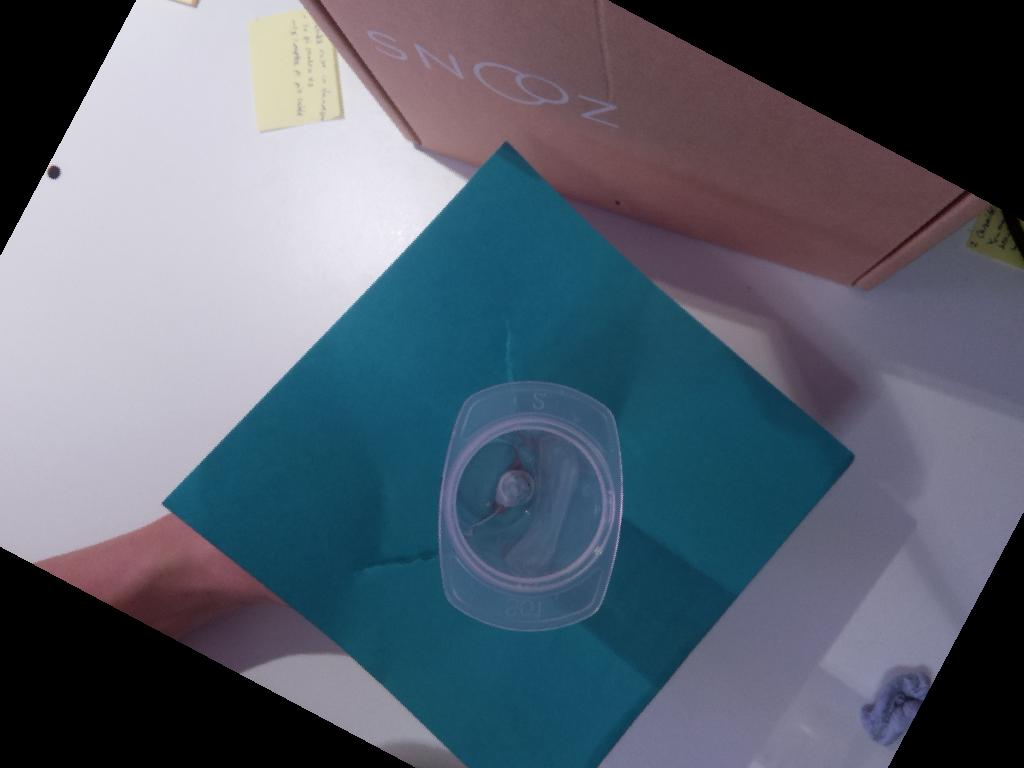clean: (435, 378, 626, 633)
